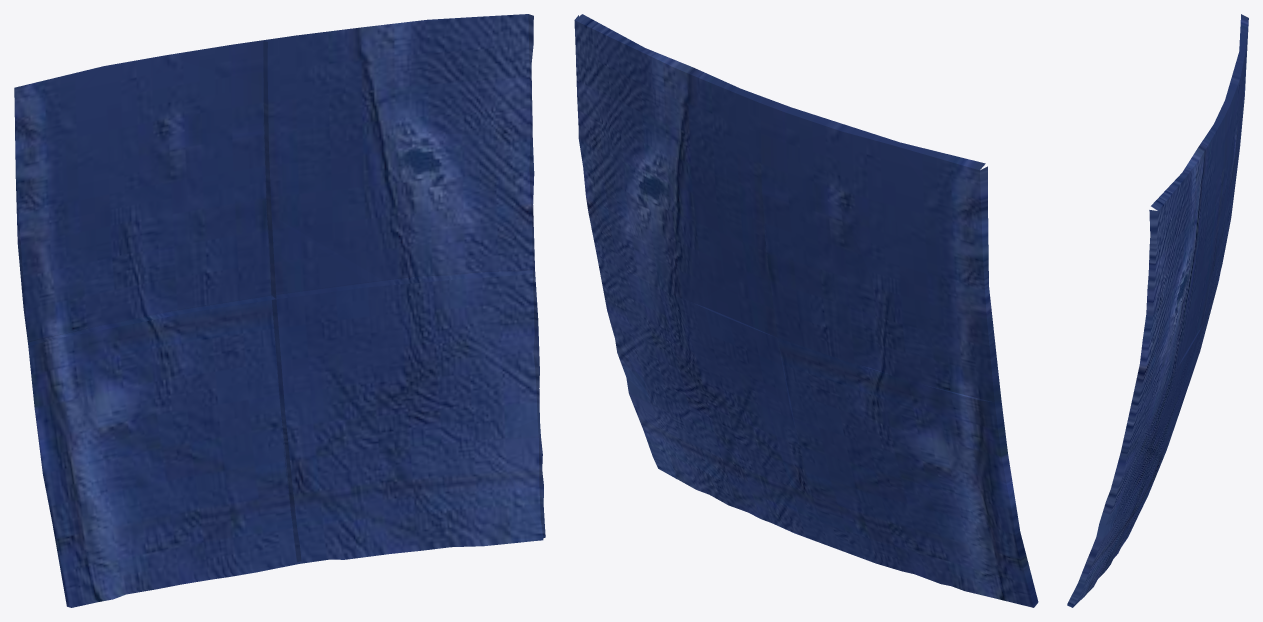
3 renders of one model, left to right at view 1: azimuth 30°, elevation 25°; view 2: azimuth 150°, elevation 25°; view 3: azimuth 270°, elevation 25°, orthographic. The views are drawn at different scales.
Size of the model in its own units: 2469790 by 2456581 by 973530.
Materials: 1 (1 with a texture image).
